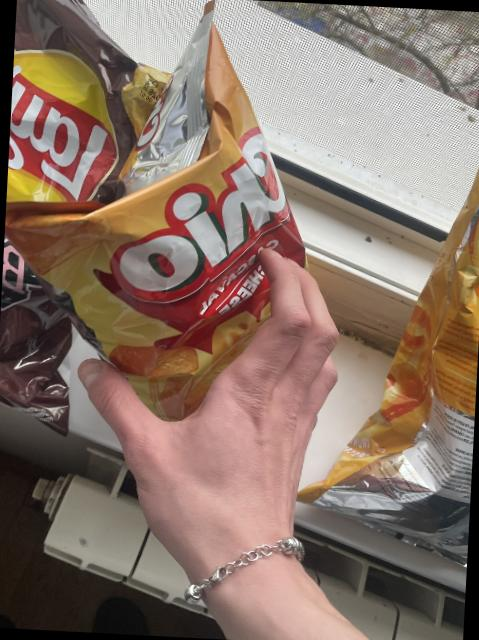Chio Cascaval 125g: (0, 0, 320, 454)
Chio Hula Hoops Cheese 70g: (283, 138, 479, 533)
Lays Beef Grilled Ribs 125g: (0, 0, 155, 397)
